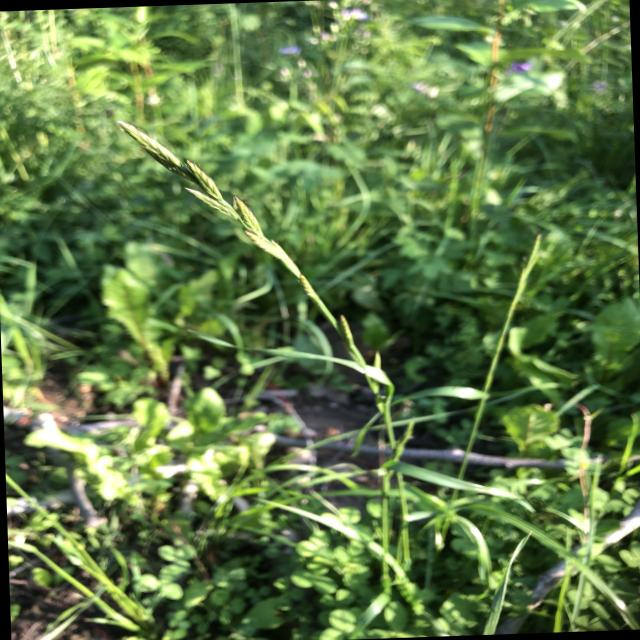Lolium: (112, 112, 388, 407)
